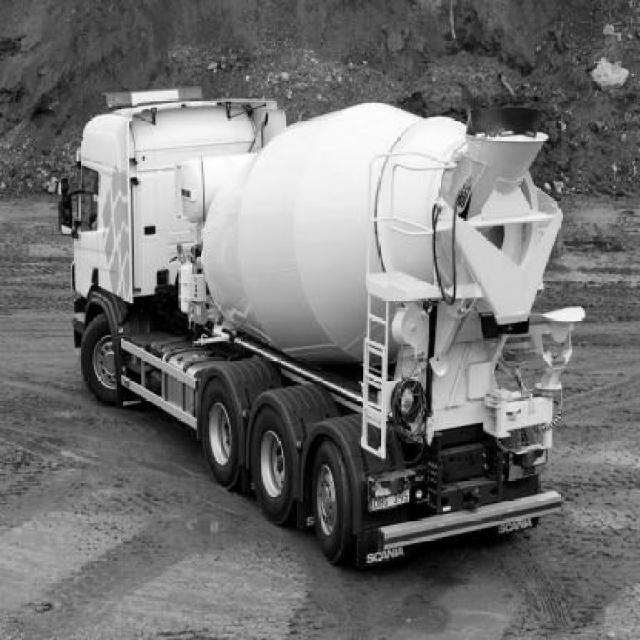Concrete Mixer: (56, 85, 586, 573)
